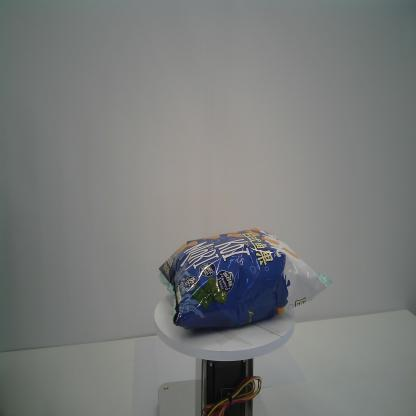Puffed Food: (157, 226, 333, 332)
